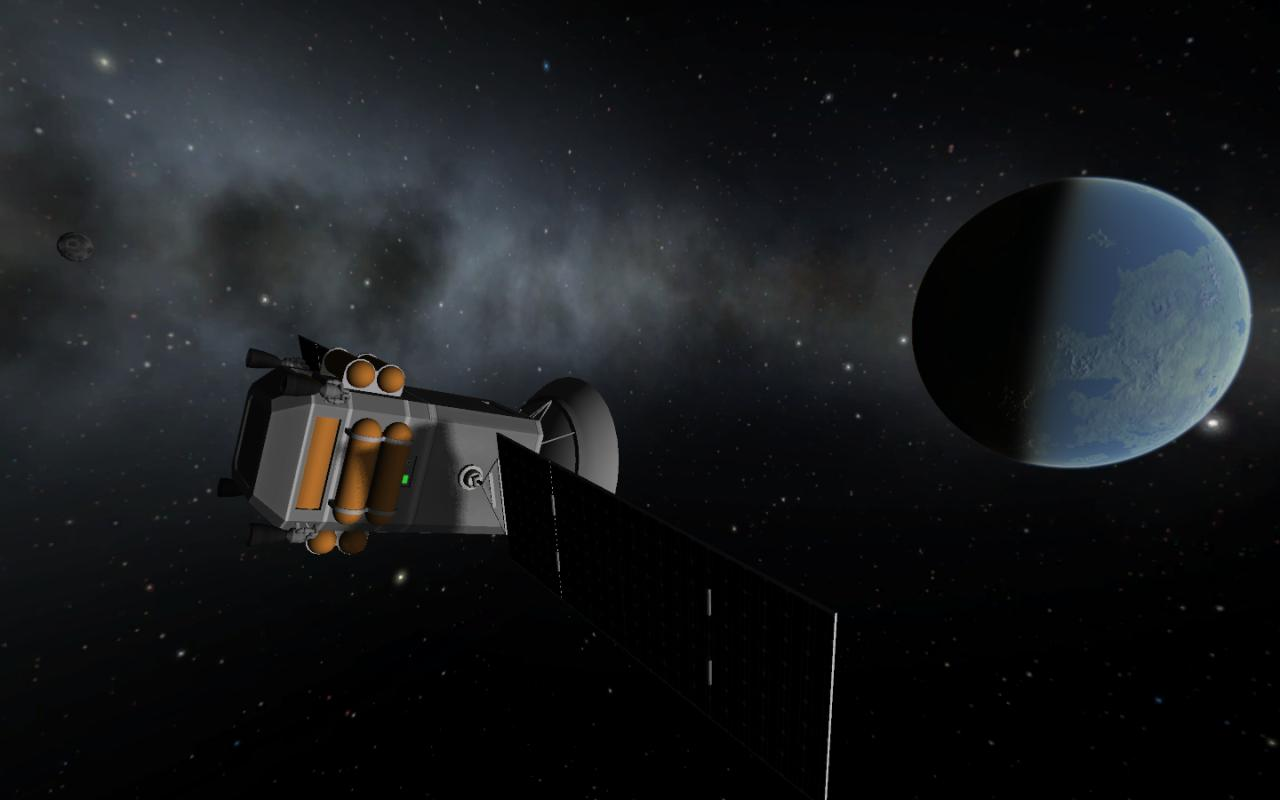antenna: (516, 374, 622, 498)
body: (231, 381, 550, 558)
solar: (495, 430, 842, 800), (293, 331, 344, 376)
thruster: (278, 367, 324, 399), (241, 520, 291, 549), (242, 345, 282, 371), (214, 473, 246, 500)
